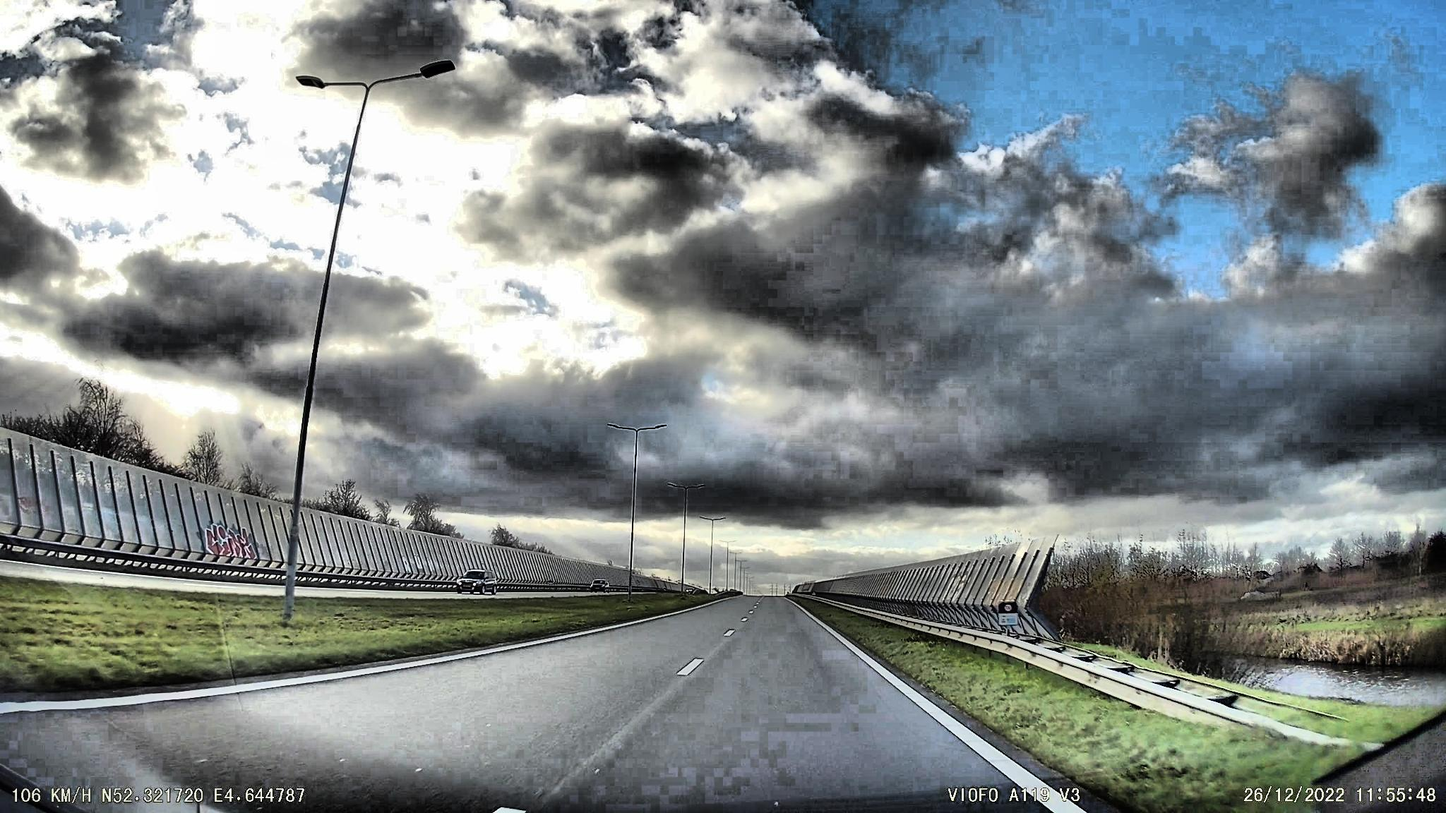Roads: (0, 596, 1125, 813)
